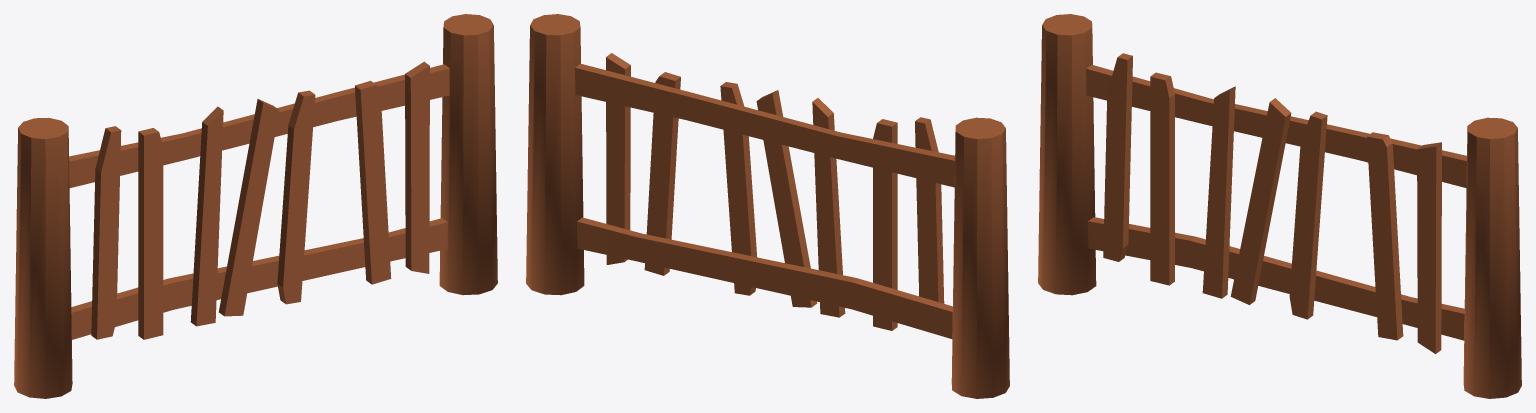
File: fence1.fbx
3 renders of one model, left to right at view 1: azimuth 30°, elevation 25°; view 2: azimuth 150°, elevation 25°; view 3: azimuth 330°, elevation 25°, orthographic.
Parts seen in each view (by area): view 1: Big_Fence_02; view 2: Big_Fence_02; view 3: Big_Fence_02.
Boxes of the visible parts, x1,y1,x2,y2 form: Big_Fence_02: (14, 14, 497, 398); Big_Fence_02: (526, 14, 1009, 398); Big_Fence_02: (1038, 14, 1521, 398).
Size of the model in its own units: 87.41 by 45.3 by 9.33.
